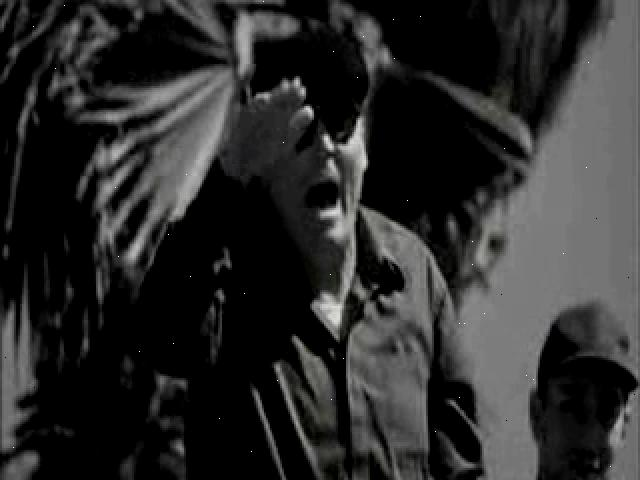T: (134, 25, 483, 480)
